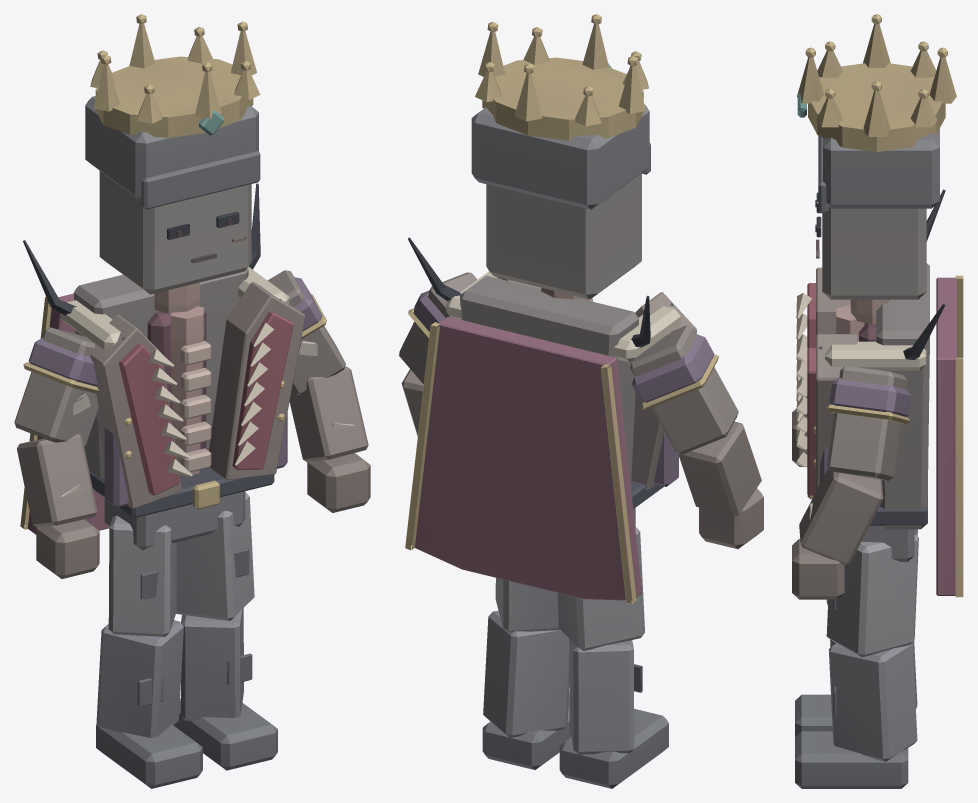
File: AssimilatedAdventurerKing.glb
3 renders of one model, left to right at view 1: azimuth 30°, elevation 25°; view 2: azimuth 150°, elevation 25°; view 3: azimuth 270°, elevation 25°, orthographic. The views are drawn at different scales.
Visible parts, largest first — view 1: Body, Head, LegR, LegL, ArmR, ArmL, TendrilR, TendrilL; view 2: Body, Head, ArmR, LegR, LegL, ArmL, TendrilL; view 3: Head, Body, LegL, ArmL, LegR, TendrilL, ArmR.
Part boxes in pixels (left/top/right/bottom): Body: left=20, top=267, right=305, bottom=550; Head: left=85, top=14, right=260, bottom=313; LegR: left=96, top=515, right=202, bottom=788; LegL: left=173, top=492, right=277, bottom=770; ArmR: left=14, top=327, right=99, bottom=578; ArmL: left=268, top=270, right=370, bottom=512; TendrilR: left=23, top=240, right=76, bottom=315; TendrilL: left=249, top=183, right=260, bottom=269; Body: left=405, top=271, right=696, bottom=603; Head: left=471, top=14, right=650, bottom=300; ArmR: left=630, top=325, right=763, bottom=549; LegR: left=557, top=526, right=668, bottom=788; LegL: left=482, top=578, right=571, bottom=769; ArmL: left=399, top=272, right=477, bottom=436; TendrilL: left=408, top=237, right=461, bottom=301; Head: left=797, top=14, right=956, bottom=324; Body: left=796, top=263, right=963, bottom=597; LegL: left=795, top=534, right=918, bottom=788; ArmL: left=792, top=366, right=911, bottom=599; LegR: left=795, top=529, right=917, bottom=736; TendrilL: left=903, top=303, right=945, bottom=359; ArmR: left=792, top=396, right=807, bottom=466.
Size of the model in its own units: 3.24 by 6.85 by 1.5.
